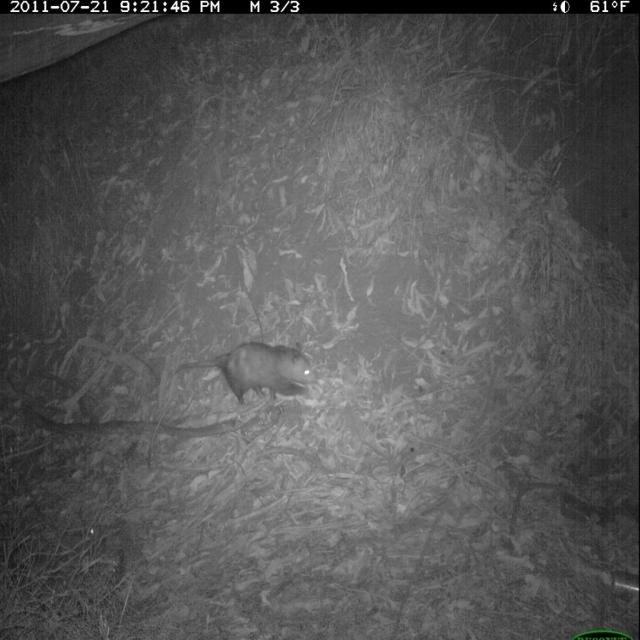opossum: (161, 333, 325, 422)
